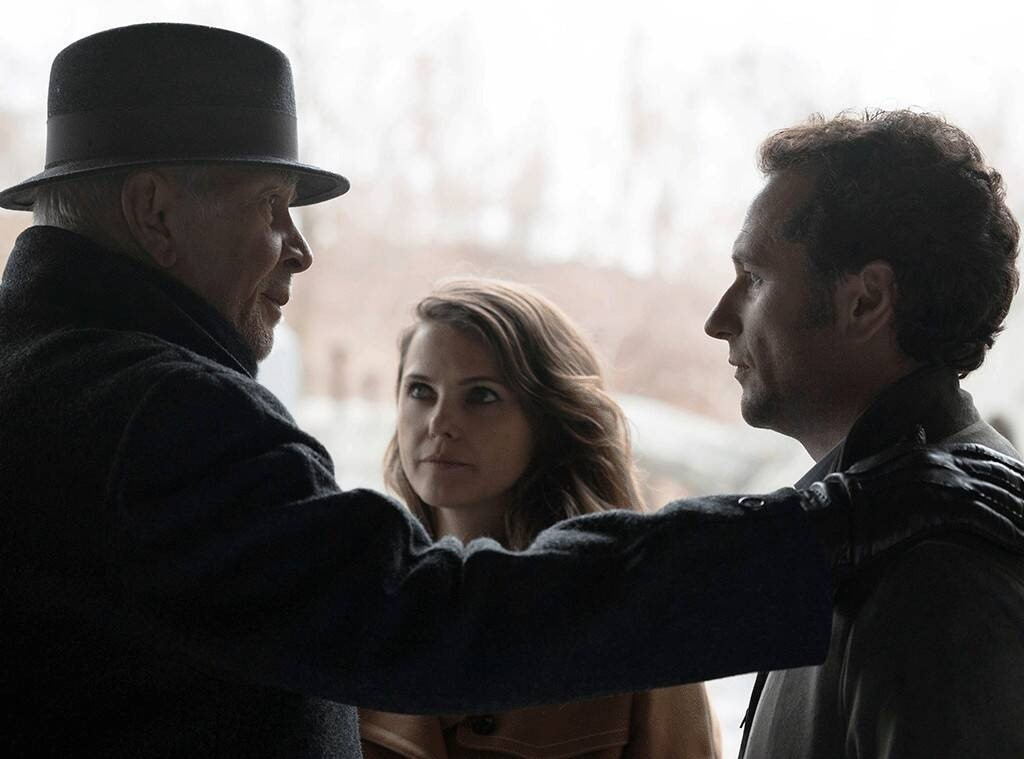face_no_mask: (705, 116, 995, 430), (392, 278, 562, 506)
